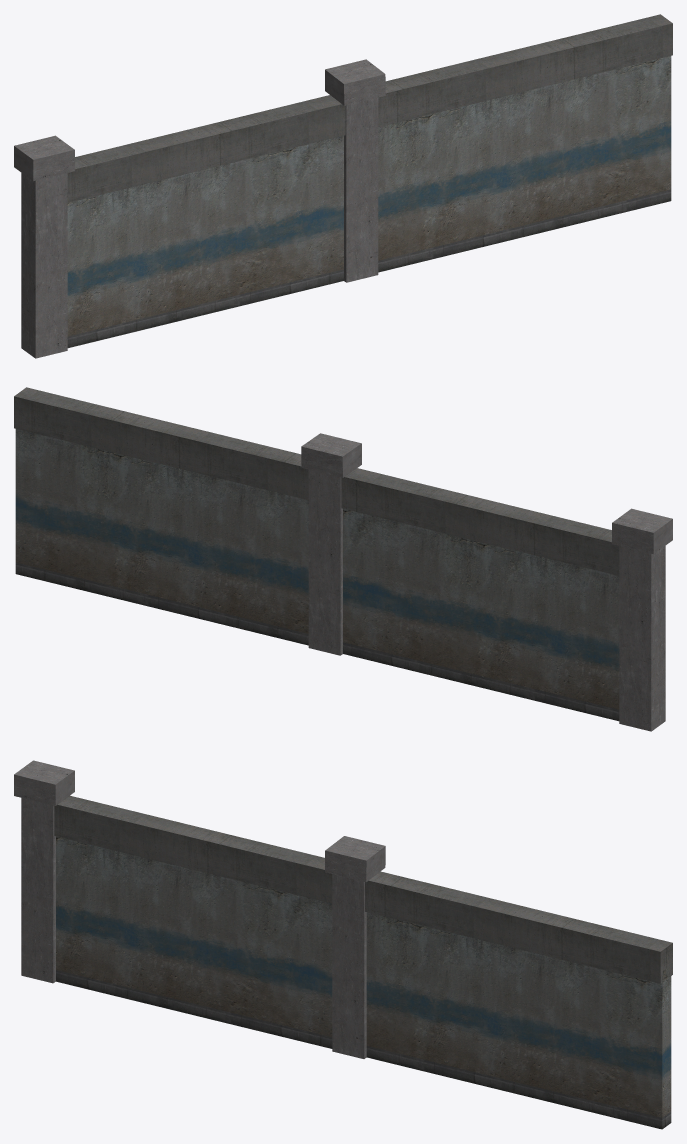
The model's file is Cover_WallA2.glb.
The picture shows the model from 3 angles, top to bottom: view 1: azimuth 30°, elevation 25°; view 2: azimuth 150°, elevation 25°; view 3: azimuth 330°, elevation 25°; orthographic projection.
Visible parts, largest first — view 1: xiutz_wall_a2; view 2: xiutz_wall_a2; view 3: xiutz_wall_a2.
Boxes of the visible parts, <box> form: xiutz_wall_a2: <box>14,14,672,358</box>; xiutz_wall_a2: <box>14,387,672,731</box>; xiutz_wall_a2: <box>14,760,672,1129</box>.
Size of the model in its own units: 9.81 by 2.95 by 0.5131.
1 material, 1 textured.
